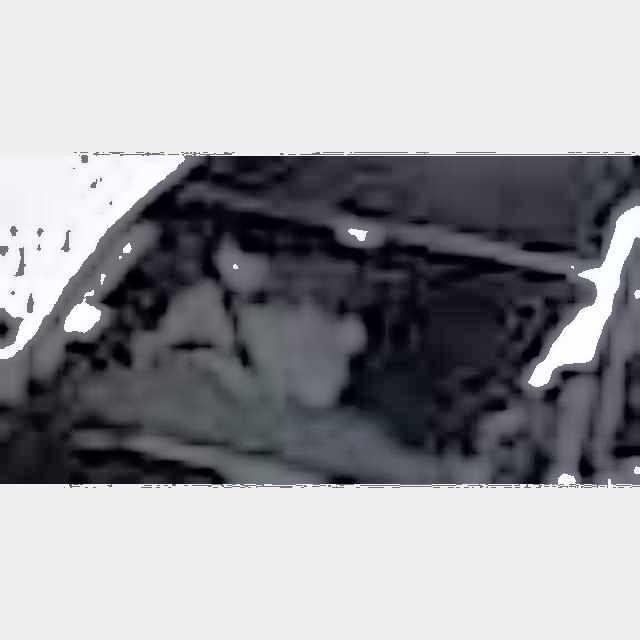pakai: (142, 209, 329, 423)
